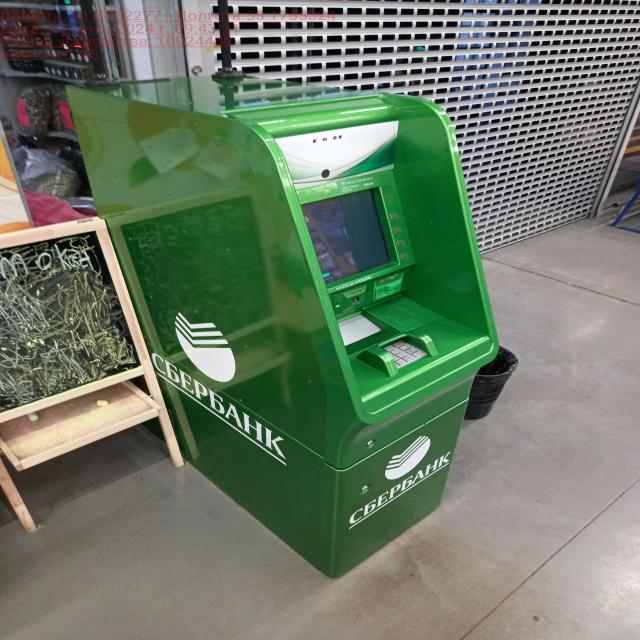bank: (68, 83, 500, 578)
